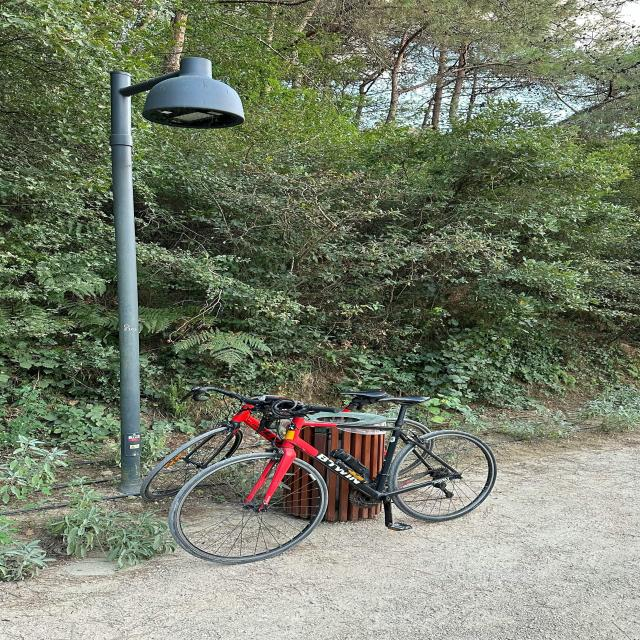metal: (272, 412, 322, 461), (354, 466, 395, 509)
